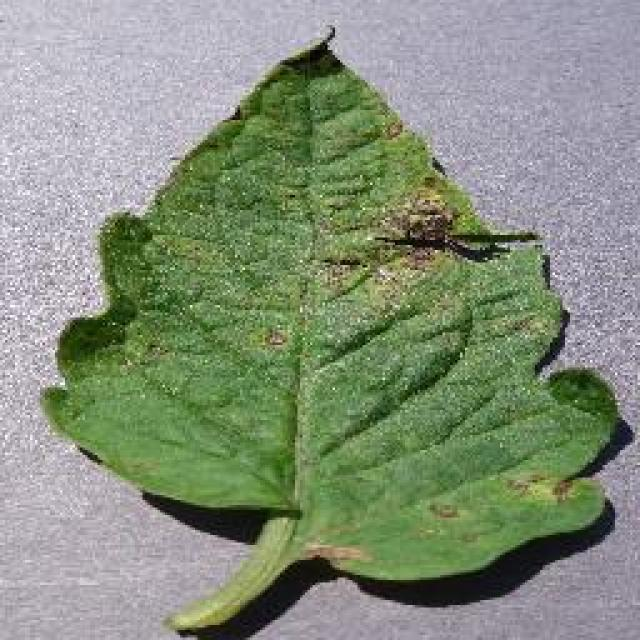Tomato target spot leaf: (37, 33, 625, 585)
